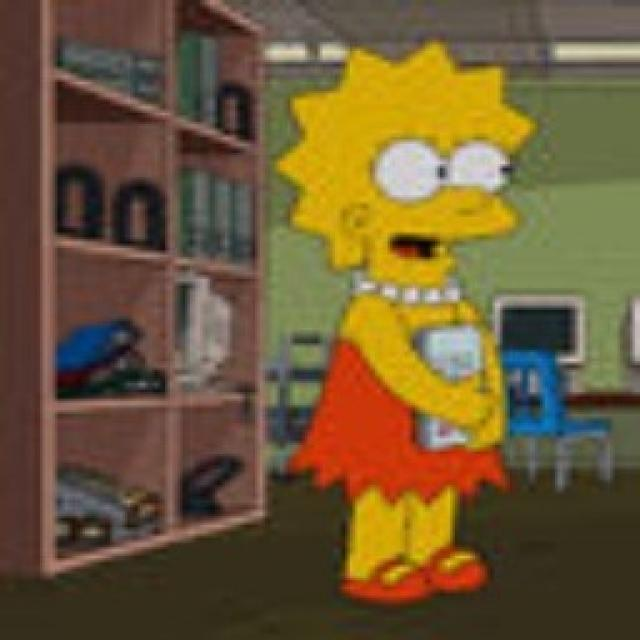Lisa Simpson: (276, 46, 539, 299)
